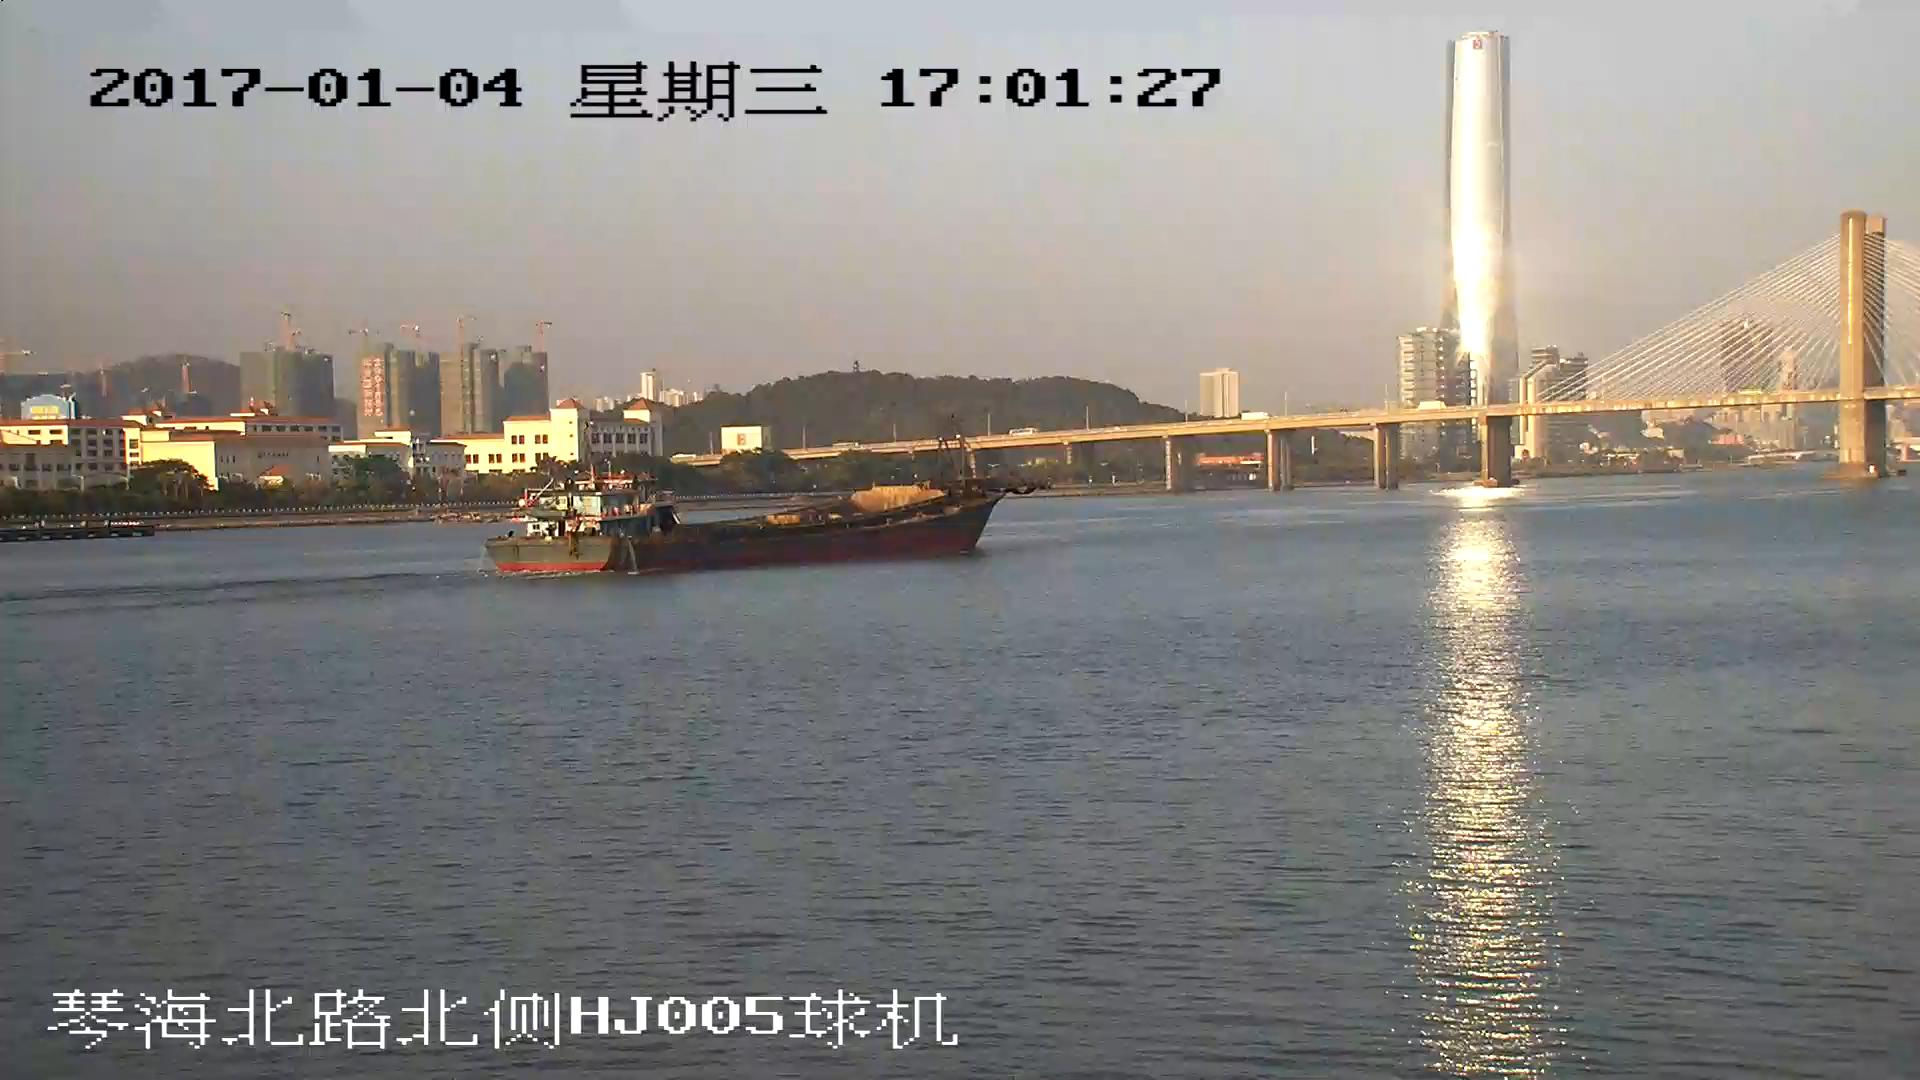bulk cargo carrier: (482, 462, 999, 573)
